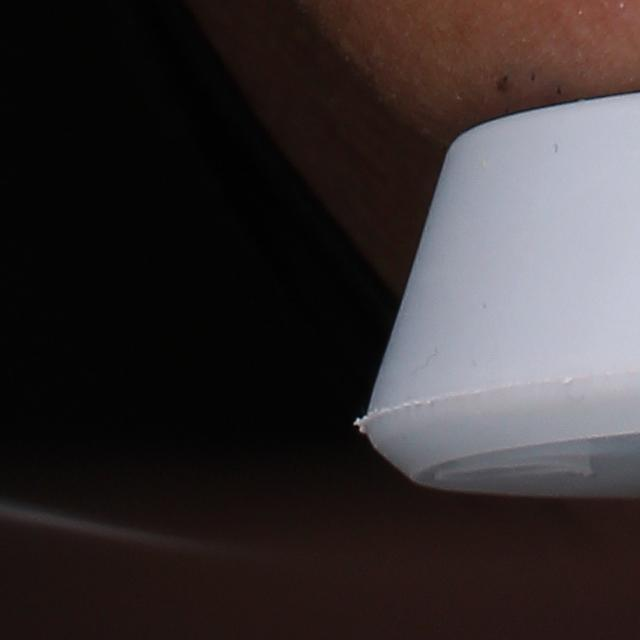nevus: (493, 69, 515, 94)
